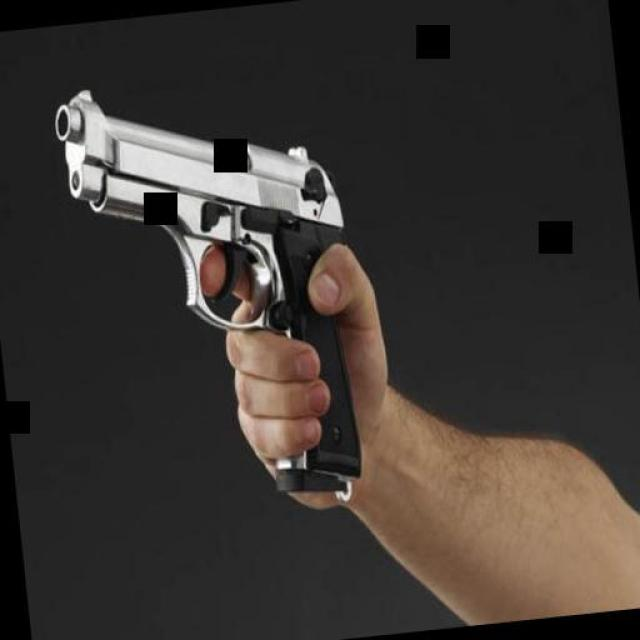gun: (41, 51, 364, 519)
